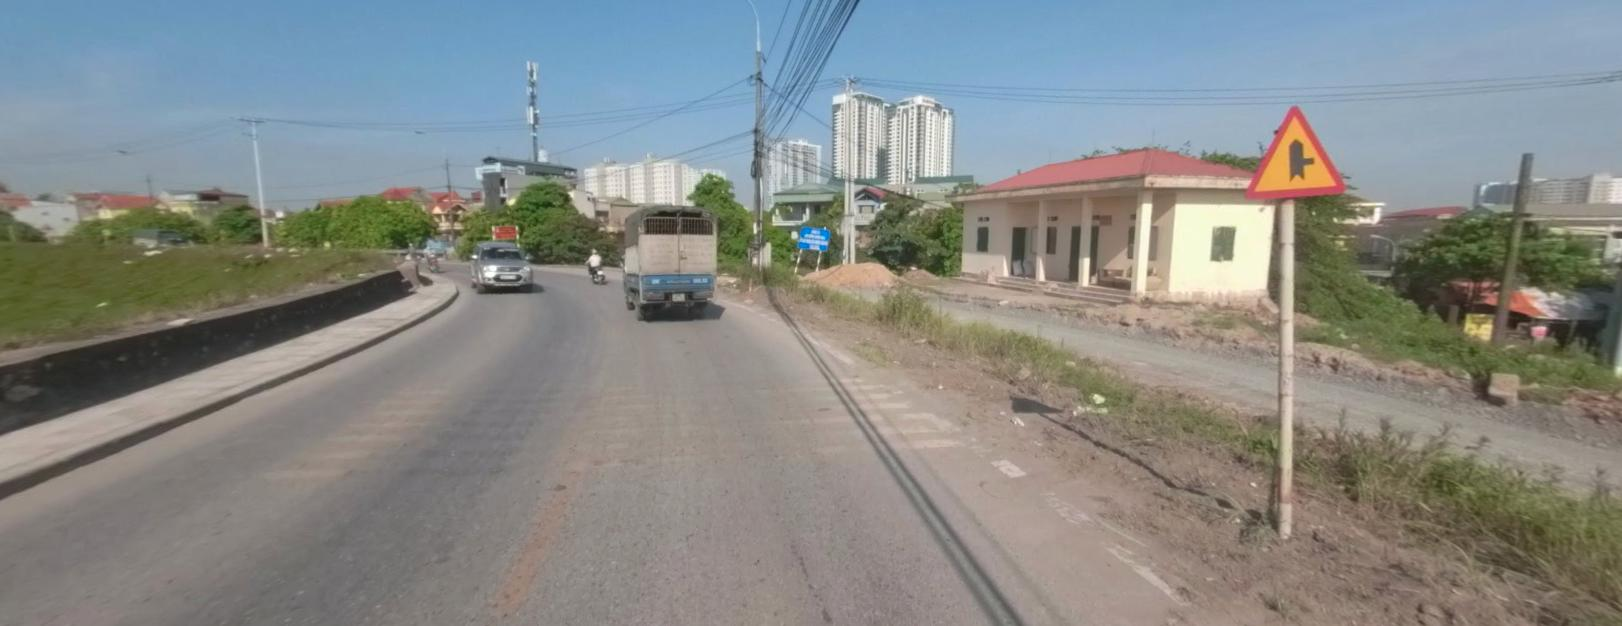Nguy hiem: (1241, 102, 1346, 197)
